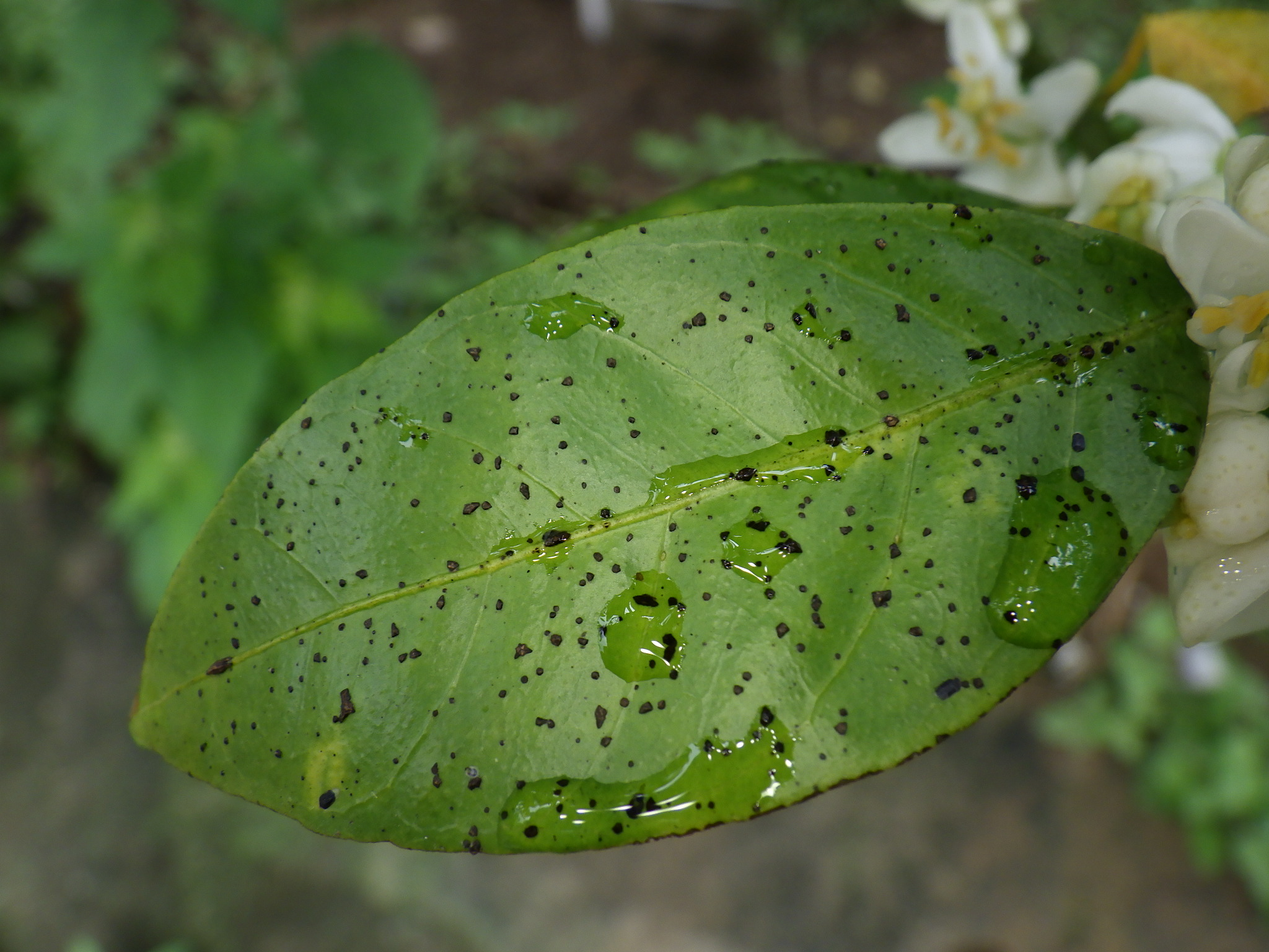Oily_Spot: (133, 199, 1207, 852)
